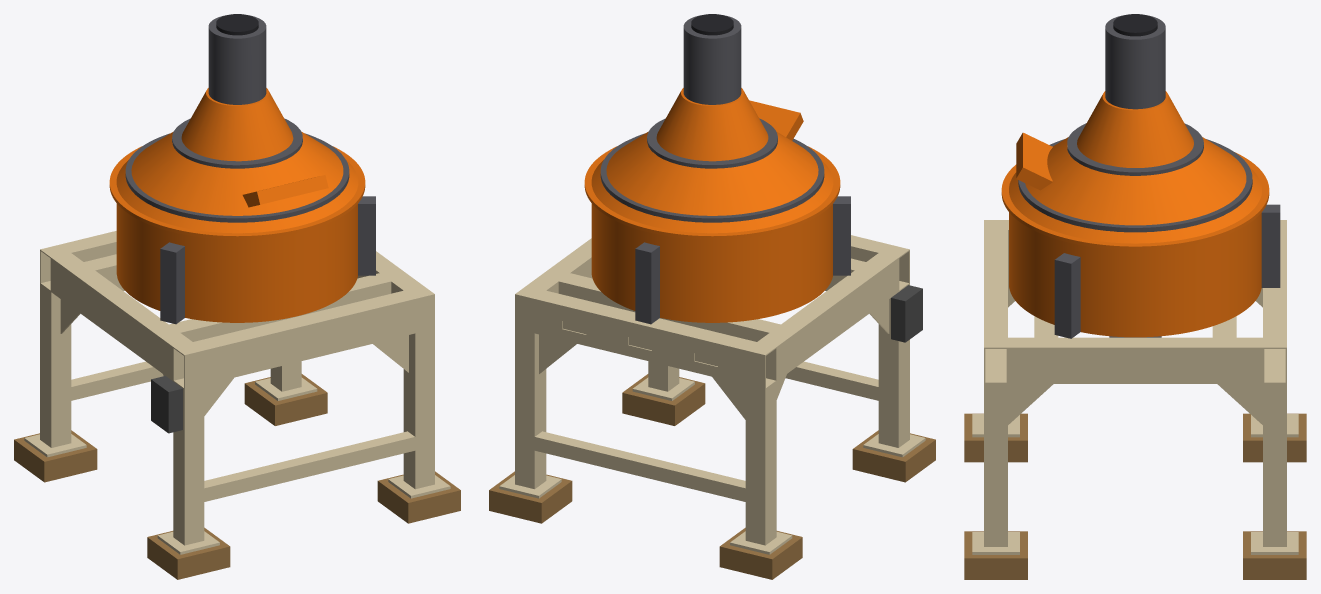
Rendered from Planetary_Mixer_on_Stand.glb.
3 views of the same model, side by side, from view 1: azimuth 30°, elevation 25°; view 2: azimuth 150°, elevation 25°; view 3: azimuth 270°, elevation 25° (orthographic). The views are drawn at different scales.
Visible parts, largest first — view 1: lower_tie_-1_3613c0, gearbox_f5c577, water_ring_a26e5a, timber_block_3_0e67bb, junction_box_2139f2, fan_cap_fb2e30; view 2: lower_tie_-1_3613c0, gearbox_f5c577, water_ring_a26e5a, timber_block_3_0e67bb, junction_box_2139f2, fan_cap_fb2e30; view 3: gearbox_f5c577, lower_tie_-1_3613c0, water_ring_a26e5a, timber_block_3_0e67bb, fan_cap_fb2e30.
Boxes of the visible parts, box(x1,y1,x2,y2) form: lower_tie_-1_3613c0: box(24, 231, 450, 554); gearbox_f5c577: box(109, 88, 365, 322); water_ring_a26e5a: box(125, 15, 375, 324); timber_block_3_0e67bb: box(14, 374, 460, 579); junction_box_2139f2: box(151, 376, 182, 433); fan_cap_fb2e30: box(216, 14, 258, 35); lower_tie_-1_3613c0: box(499, 235, 925, 554); gearbox_f5c577: box(584, 88, 840, 322); water_ring_a26e5a: box(600, 15, 850, 324); timber_block_3_0e67bb: box(489, 374, 935, 579); junction_box_2139f2: box(891, 285, 922, 342); fan_cap_fb2e30: box(691, 14, 733, 35); gearbox_f5c577: box(1001, 91, 1269, 337); lower_tie_-1_3613c0: box(972, 220, 1298, 554); water_ring_a26e5a: box(1018, 15, 1280, 338); timber_block_3_0e67bb: box(964, 413, 1306, 579); fan_cap_fb2e30: box(1113, 14, 1157, 36).
Bounding box in the file's own units: 43 × 67.08 × 43.
